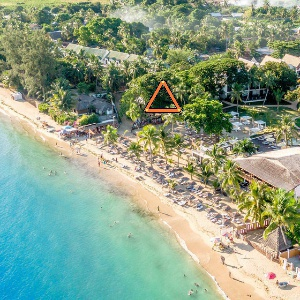triangle: (140, 78, 185, 115)
